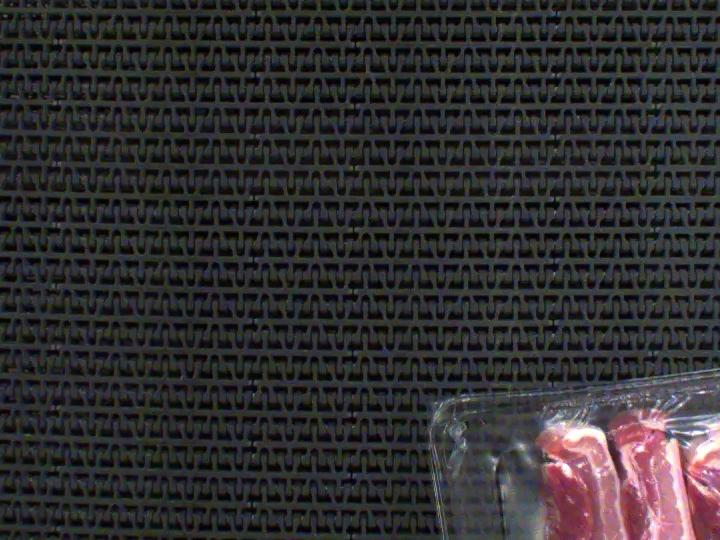unsealed: (465, 340, 720, 540)
